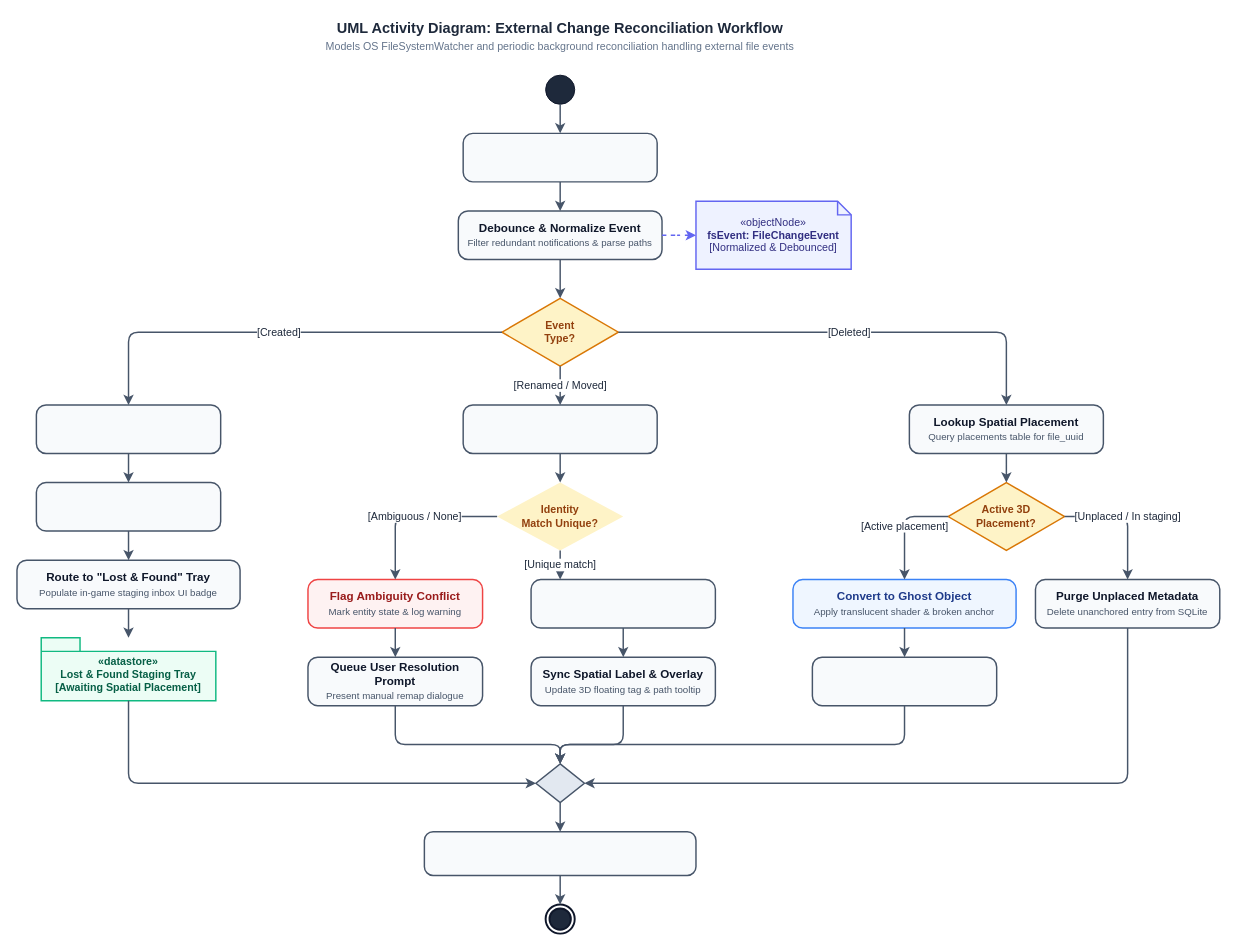
Some shapes in this 1238 by 951 pixel diagram are drawn without their labels. The centre of each missing label's shape, as x and y in pixels:
Capture Filesystem Event (OS FileSystemWatcher / Periodic Scan): pixel 559 157
Commit Transaction & Refresh Spatial Index: pixel 559 853
Inspect File Attributes Read size, MIME, hash & timestamps: pixel 128 429
Mark State = "ORPHANED" Preserve spatial coords in SQLite: pixel 904 681
Match Stable File Identity Query OS fileID / inode / hash in SQLite: pixel 559 429
Register Unplaced File Insert record into SQLite files table: pixel 128 506
Update Path & Identity in DB Execute atomic SQLite transaction: pixel 623 603
